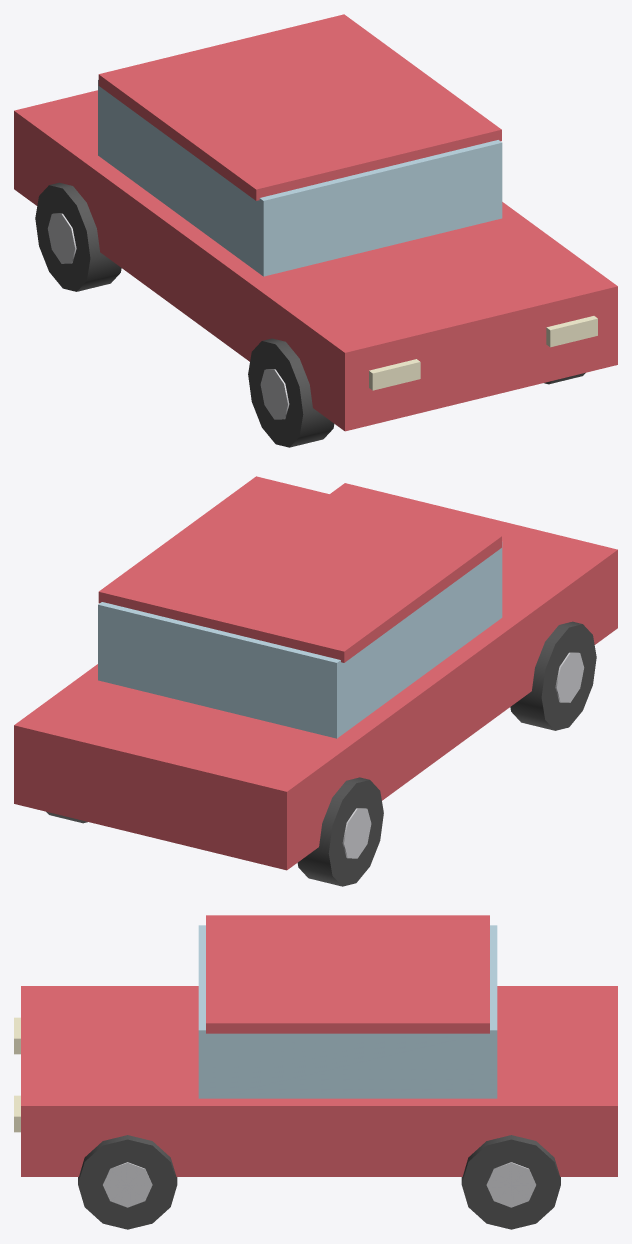
The model's file is sedan.glb.
3 renders of one model, top to bottom at view 1: azimuth 30°, elevation 25°; view 2: azimuth 150°, elevation 25°; view 3: azimuth 270°, elevation 25°, orthographic. The views are drawn at different scales.
Visible parts, largest first — view 1: root; view 2: root; view 3: root.
Part boxes in pixels (x1,y1,x2,y2): root: (14, 14, 617, 447); root: (14, 476, 617, 886); root: (14, 915, 617, 1229).
Bounding box in the file's own units: 2.17 × 1.52 × 4.25.
